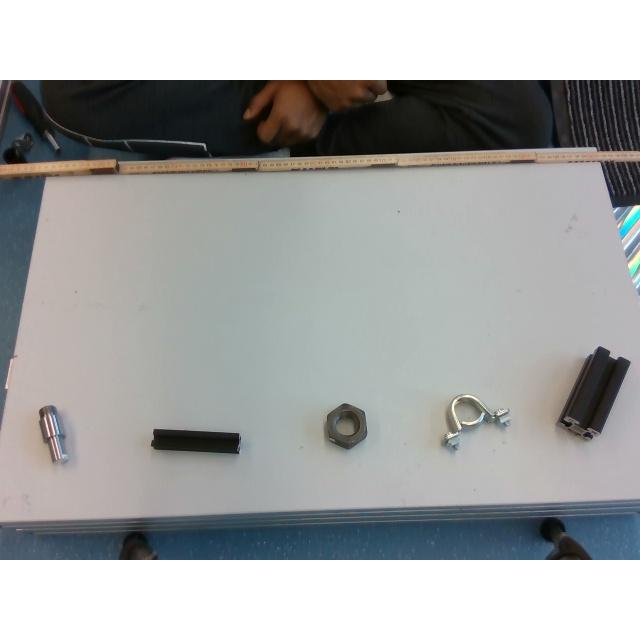Axis2: (40, 405, 68, 463)
F20_20_B: (152, 429, 240, 453)
Housing: (442, 394, 510, 446)
M30: (327, 403, 369, 449)
S40_40_B: (558, 346, 630, 438)
